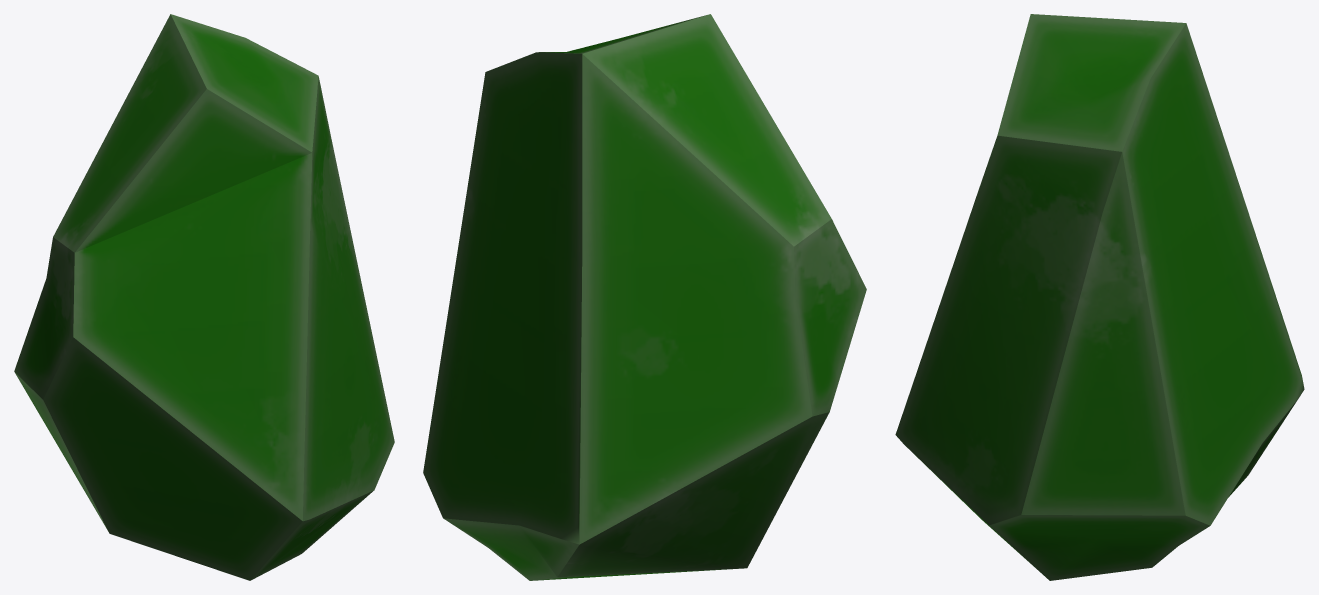
The model's file is Rock_02_01.fbx.
The picture shows the model from 3 angles, left to right: view 1: azimuth 30°, elevation 25°; view 2: azimuth 150°, elevation 25°; view 3: azimuth 270°, elevation 25°; orthographic projection. The views are drawn at different scales.
Parts seen in each view (by area): view 1: Rock_02_01; view 2: Rock_02_01; view 3: Rock_02_01.
Boxes of the visible parts, x1,y1,x2,y2 form: Rock_02_01: (14, 14, 394, 580); Rock_02_01: (423, 14, 866, 580); Rock_02_01: (895, 14, 1304, 580).
Size of the model in its own units: 1.25 by 1.87 by 1.32.
